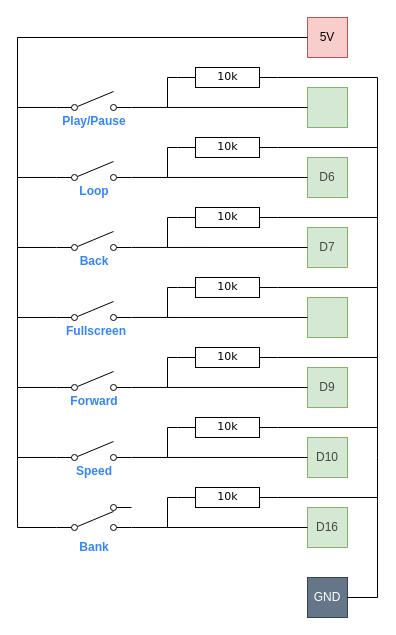
Image size: 396x635. Some labels were removed from this diagram. The shapes that lost their labels are listed below. From the top down, each one's centre as x and y in pixels, then its label:
the point at 327,107: D5
the point at 327,317: D8
